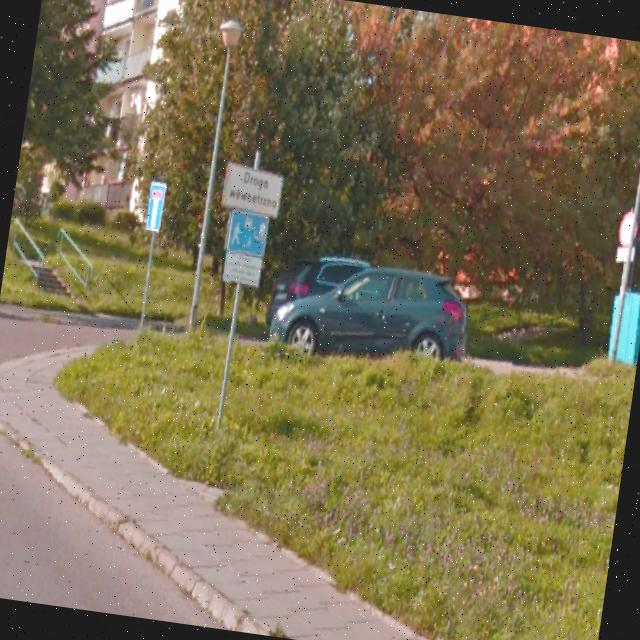Zakaz ruchu w obu kierunkach: (616, 211, 640, 246)
